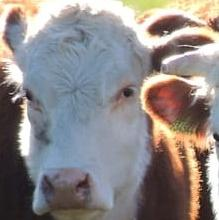muzzles: (30, 167, 115, 218)
